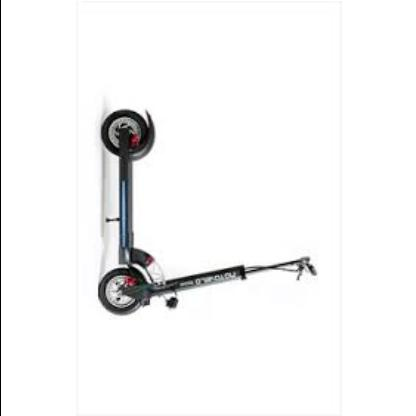bike: (97, 110, 317, 315)
